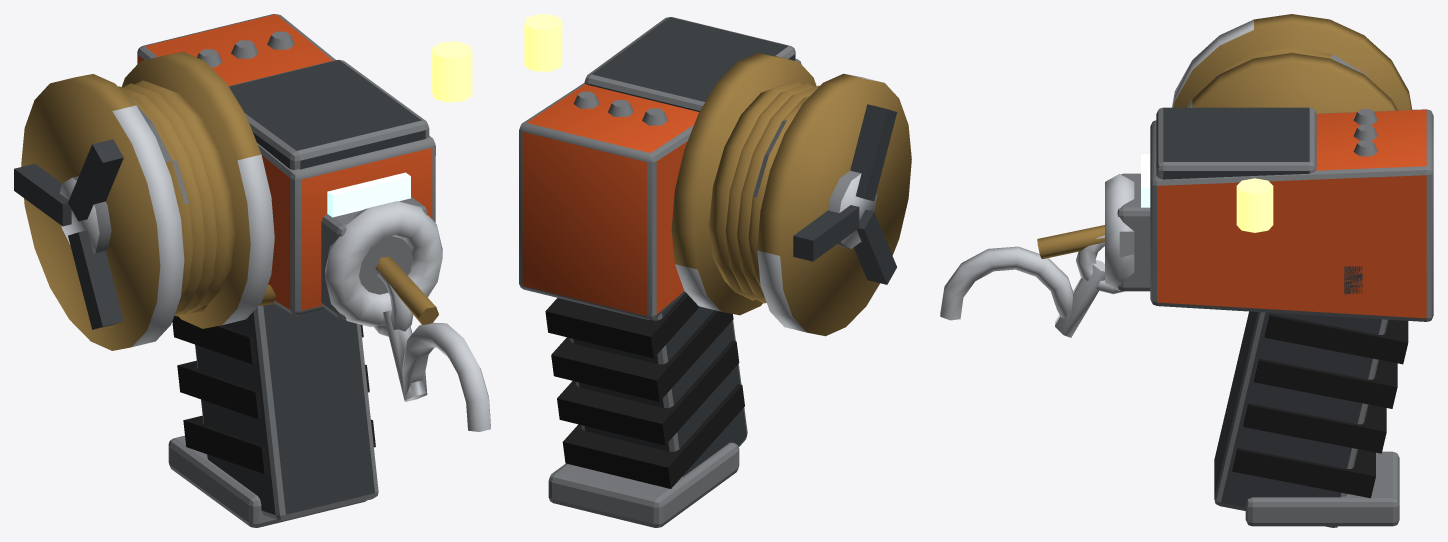
Rendered from leash_emitter.fbx.
The picture shows the model from 3 angles, left to right: view 1: azimuth 30°, elevation 25°; view 2: azimuth 150°, elevation 25°; view 3: azimuth 270°, elevation 25°; orthographic projection. The views are drawn at different scales.
Visible parts, largest first — view 1: Mesh_Leash_Spool; view 2: Mesh_Leash_Spool; view 3: Mesh_Leash_Spool.
Part boxes in pixels (<box>): Mesh_Leash_Spool: <box>14,14,490,527</box>; Mesh_Leash_Spool: <box>519,14,911,527</box>; Mesh_Leash_Spool: <box>940,14,1433,527</box>.
Size of the model in its own units: 12.6 by 14.69 by 16.02.
